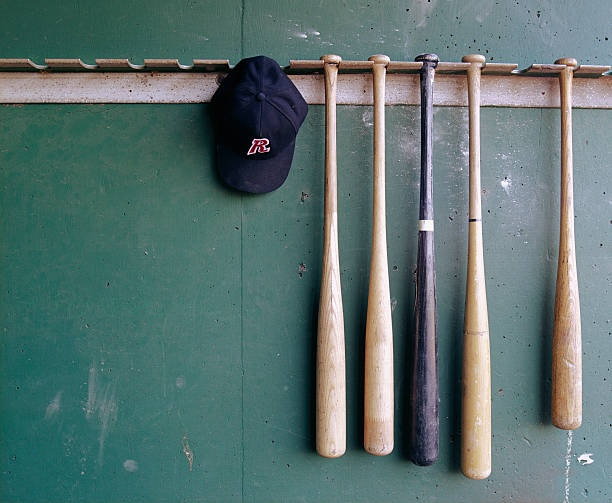bita: (314, 52, 346, 455), (361, 53, 393, 456), (408, 57, 440, 460), (459, 54, 486, 476), (552, 60, 581, 428)
